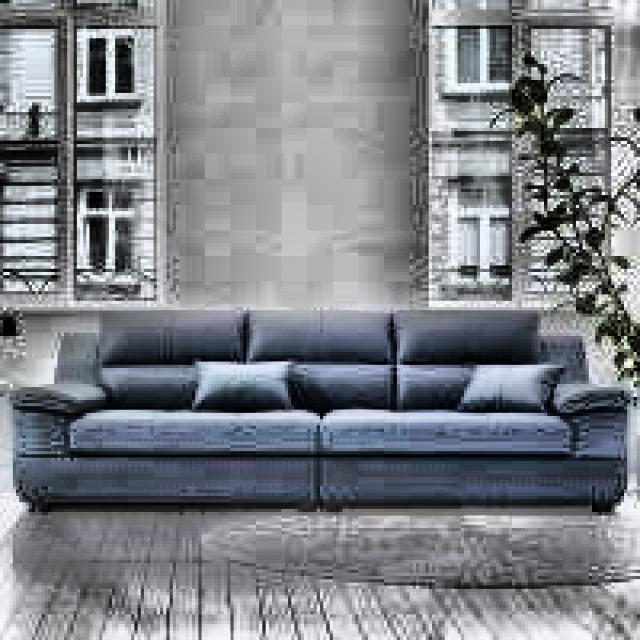sofa: (16, 307, 634, 512)
